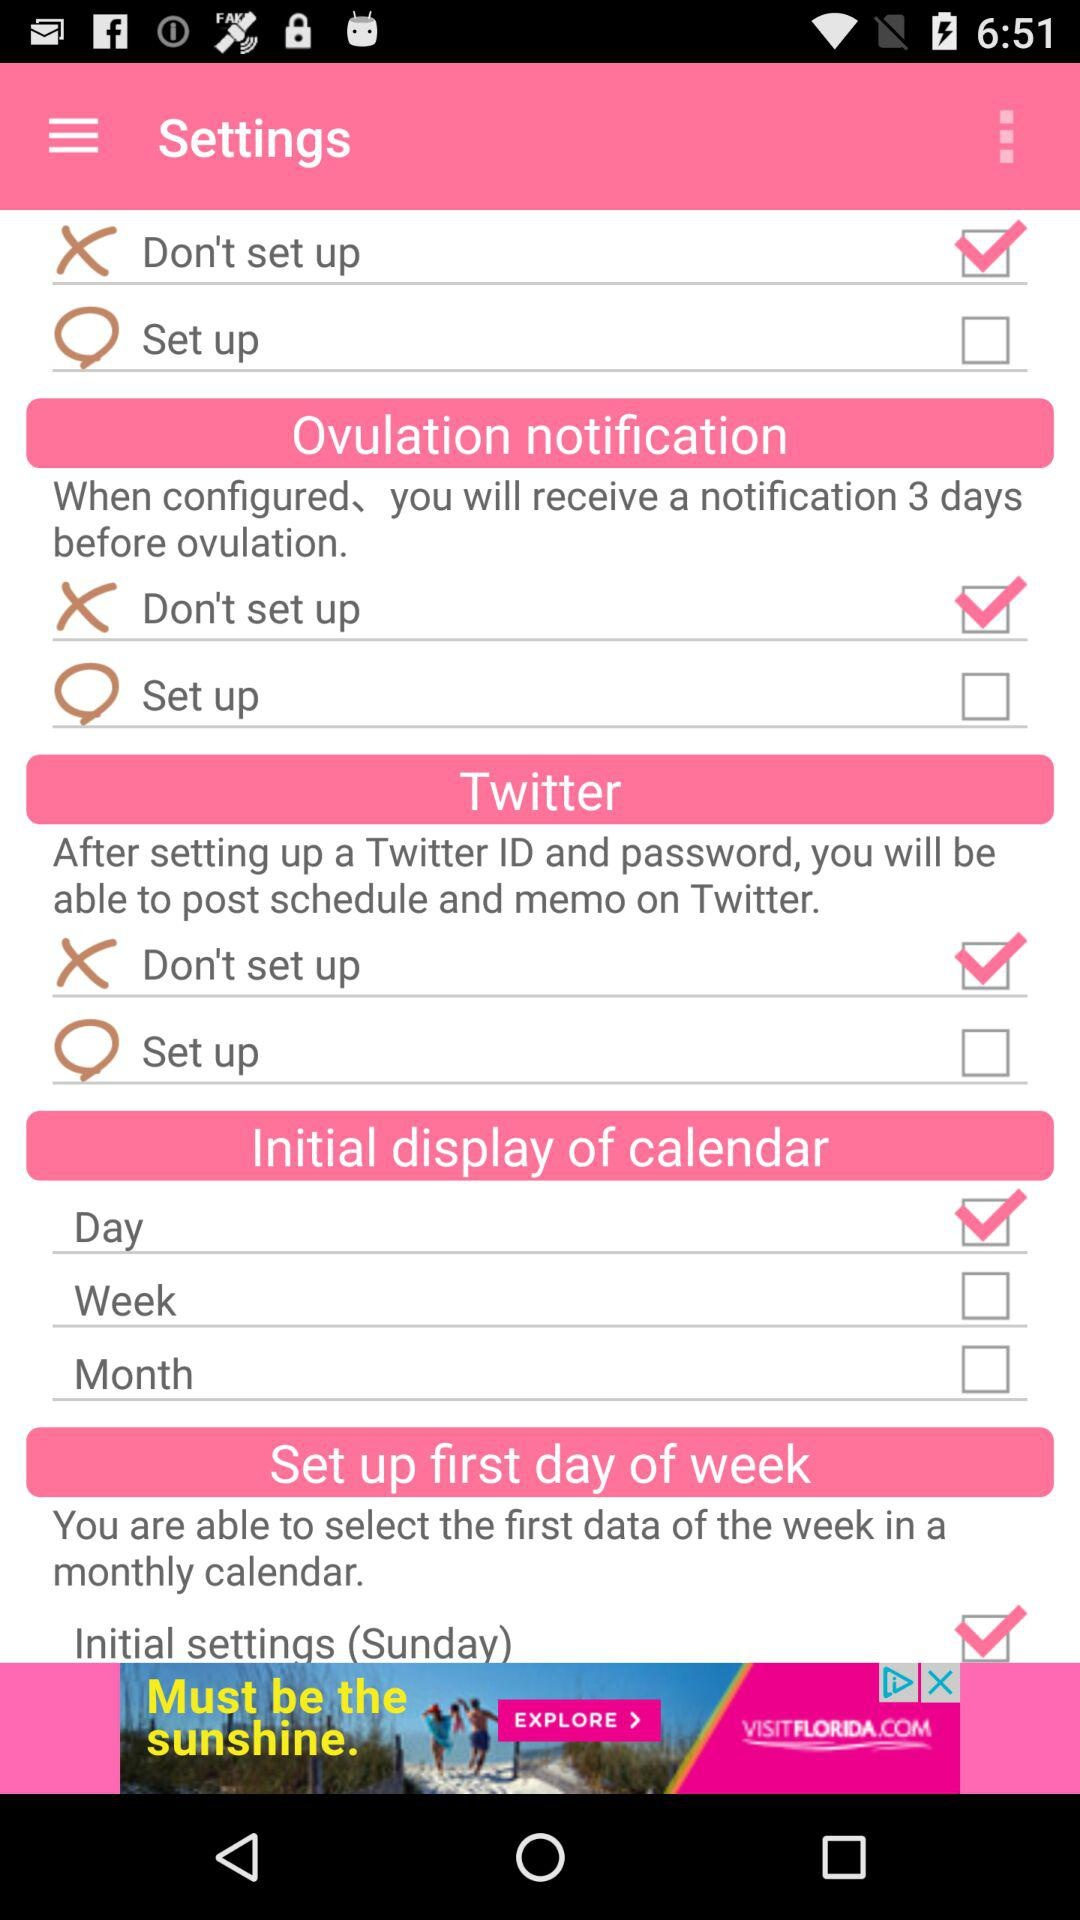Bar: (5, 63, 1075, 210)
ImageView: (284, 1671, 796, 1729), (313, 1727, 767, 1785), (51, 928, 121, 998), (51, 659, 121, 728), (51, 1015, 121, 1084), (51, 218, 121, 285), (51, 305, 121, 372), (51, 574, 121, 641)
SpecialButton: (953, 298, 1029, 372), (953, 924, 1029, 998), (953, 1180, 1029, 1254), (953, 1254, 1029, 1328), (953, 212, 1029, 285), (953, 568, 1029, 641), (953, 655, 1029, 728), (953, 1011, 1029, 1084), (953, 1328, 1029, 1400), (953, 1597, 1029, 1663)
TextView: (26, 398, 1054, 468), (26, 754, 1054, 824), (26, 1427, 1054, 1497), (26, 1112, 1054, 1180), (121, 222, 361, 280), (158, 102, 352, 171)
